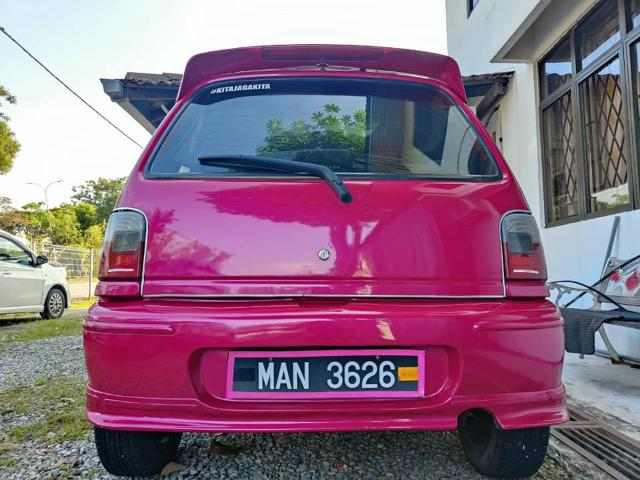License_Plate: (237, 358, 414, 397)
car: (94, 33, 571, 480)
